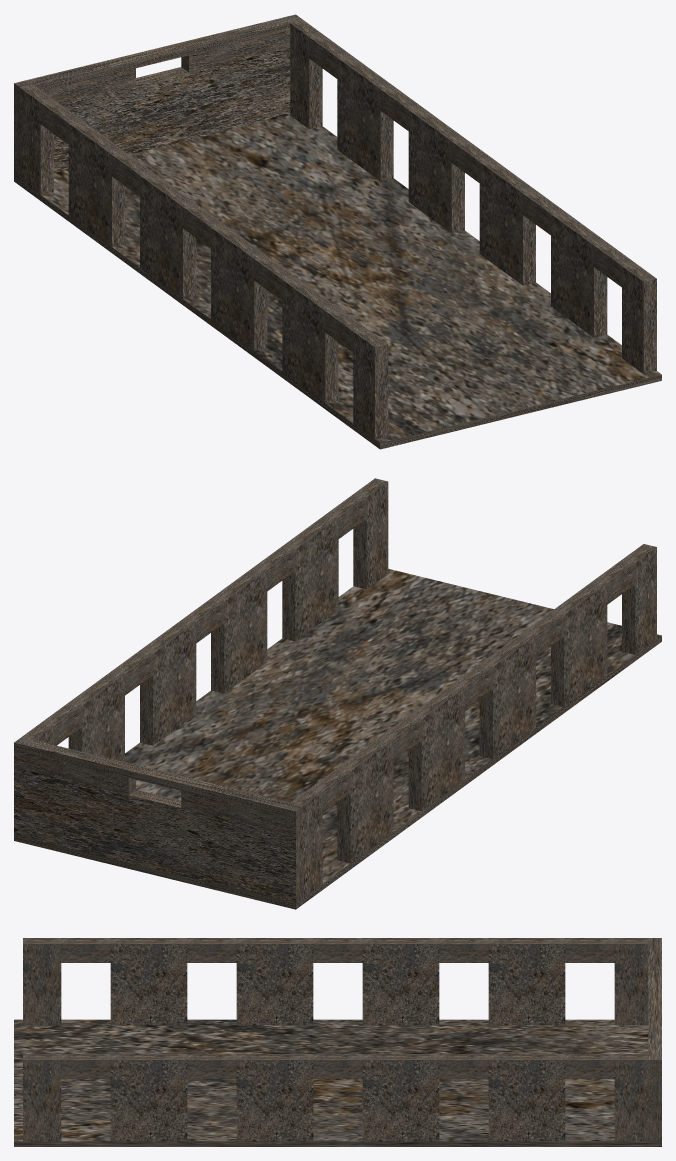
File: cell-corridor.glb
The picture shows the model from 3 angles, top to bottom: view 1: azimuth 30°, elevation 25°; view 2: azimuth 150°, elevation 25°; view 3: azimuth 270°, elevation 25°; orthographic projection. The views are drawn at different scales.
Parts seen in each view (by area): view 1: 连续石板地面, 尽头下墙, 左墙段_5, 右墙段_3, 右墙段_4, 左墙段_2, 右墙段_5, 左墙段_3, 左墙段_4, 右墙段_2, 尽头上墙, 左墙段_1 (+15 smaller); view 2: 连续石板地面, 尽头下墙, 左墙段_2, 右墙段_2, 右墙段_4, 右墙段_3, 左墙段_5, 左墙段_4, 左墙段_3, 尽头上墙, 右墙段_5, 右墙段_1 (+14 smaller); view 3: 连续石板地面, 左墙段_2, 左墙段_3, 左墙段_4, 左墙段_5, 右墙段_2, 右墙段_3, 右墙段_4, 右墙段_5, 左墙段_1, 右墙段_1, 右墙末段 (+13 smaller).
Boxes of the visible parts, x1,y1,x2,y2 form: 连续石板地面: (14,115,661,449); 尽头下墙: (14,48,290,180); 左墙段_5: (68,120,124,246); 右墙段_3: (479,158,535,285); 右墙段_4: (408,106,464,233); 左墙段_2: (282,276,338,403); 右墙段_5: (337,54,393,181); 左墙段_3: (211,224,267,351); 左墙段_4: (140,172,196,298); 右墙段_2: (551,211,607,337); 尽头上墙: (14,14,300,95); 左墙段_1: (353,328,388,439); 连续石板地面: (14,569,661,909); 尽头下墙: (14,767,303,903); 左墙段_2: (551,580,607,706); 右墙段_2: (282,514,338,641); 右墙段_4: (140,619,196,745); 右墙段_3: (211,566,267,693); 左墙段_5: (337,736,393,863); 左墙段_4: (408,684,464,811); 左墙段_3: (479,632,535,759); 尽头上墙: (14,738,303,818); 右墙段_5: (68,671,124,761); 右墙段_1: (353,478,388,589); 连续石板地面: (14,1019,661,1146); 左墙段_2: (110,938,187,1025); 左墙段_3: (236,938,313,1025); 左墙段_4: (362,938,439,1025); 左墙段_5: (488,938,565,1025); 右墙段_2: (110,1054,187,1141); 右墙段_3: (236,1054,313,1141); 右墙段_4: (362,1054,439,1141); 右墙段_5: (488,1054,565,1141); 左墙段_1: (23,938,61,1025); 右墙段_1: (23,1054,61,1141); 右墙末段: (614,1054,652,1141).
Bounding box in the file's own units: 12.8 × 4.27 × 28.8.
2 materials, 2 textured.
